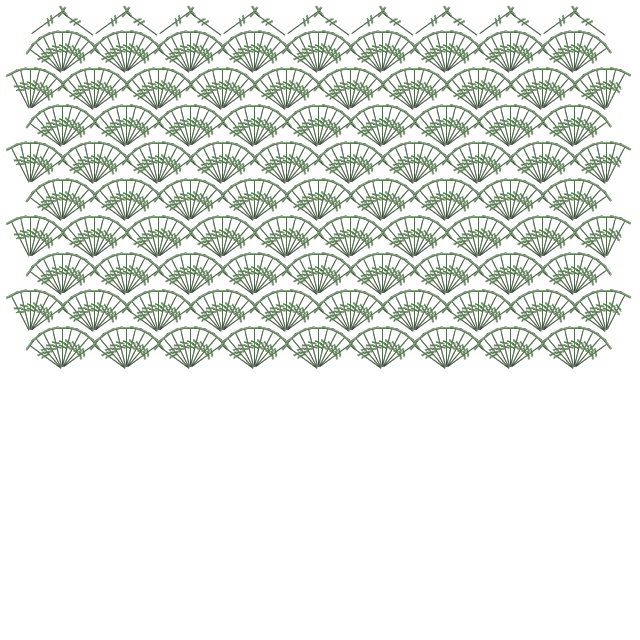fan: (30, 35, 69, 77), (57, 35, 96, 77), (94, 35, 133, 77), (121, 35, 160, 77), (158, 35, 197, 77), (185, 35, 224, 77), (222, 35, 261, 77), (249, 35, 288, 77), (286, 35, 325, 77), (313, 35, 352, 77), (350, 35, 389, 77), (377, 35, 416, 77), (414, 35, 453, 77), (441, 35, 480, 77), (478, 35, 517, 77), (505, 35, 544, 77), (542, 35, 581, 77), (569, 35, 608, 77), (25, 72, 64, 114), (62, 72, 101, 114), (89, 72, 128, 114), (126, 72, 165, 114), (153, 72, 192, 114), (190, 72, 229, 114), (217, 72, 256, 114), (254, 72, 293, 114), (281, 72, 320, 114), (318, 72, 357, 114), (345, 72, 384, 114), (382, 72, 421, 114), (409, 72, 448, 114), (446, 72, 485, 114), (473, 72, 512, 114), (510, 72, 549, 114), (537, 72, 576, 114), (574, 72, 613, 114), (30, 109, 69, 151), (57, 109, 96, 151), (94, 109, 133, 151), (121, 109, 160, 151), (158, 109, 197, 151), (185, 109, 224, 151), (222, 109, 261, 151), (249, 109, 288, 151), (286, 109, 325, 151), (313, 109, 352, 151), (350, 109, 389, 151), (377, 109, 416, 151), (414, 109, 453, 151), (441, 109, 480, 151), (478, 109, 517, 151), (505, 109, 544, 151), (542, 109, 581, 151), (569, 109, 608, 151), (25, 146, 64, 188), (62, 146, 101, 188), (89, 146, 128, 188), (126, 146, 165, 188), (153, 146, 192, 188), (190, 146, 229, 188), (217, 146, 256, 188), (254, 146, 293, 188), (281, 146, 320, 188), (318, 146, 357, 188), (345, 146, 384, 188), (382, 146, 421, 188), (409, 146, 448, 188), (446, 146, 485, 188), (473, 146, 512, 188), (510, 146, 549, 188), (537, 146, 576, 188), (574, 146, 613, 188), (30, 183, 69, 225), (57, 183, 96, 225), (94, 183, 133, 225), (121, 183, 160, 225), (158, 183, 197, 225), (185, 183, 224, 225), (222, 183, 261, 225), (249, 183, 288, 225), (286, 183, 325, 225), (313, 183, 352, 225), (350, 183, 389, 225), (377, 183, 416, 225), (414, 183, 453, 225), (441, 183, 480, 225), (478, 183, 517, 225), (505, 183, 544, 225), (542, 183, 581, 225), (569, 183, 608, 225), (25, 220, 64, 262), (62, 220, 101, 262), (89, 220, 128, 262), (126, 220, 165, 262), (153, 220, 192, 262), (190, 220, 229, 262), (217, 220, 256, 262), (254, 220, 293, 262), (281, 220, 320, 262), (318, 220, 357, 262), (345, 220, 384, 262), (382, 220, 421, 262), (409, 220, 448, 262), (446, 220, 485, 262), (473, 220, 512, 262), (510, 220, 549, 262), (537, 220, 576, 262), (574, 220, 613, 262), (30, 257, 69, 299), (57, 257, 96, 299), (94, 257, 133, 299), (121, 257, 160, 299), (158, 257, 197, 299), (185, 257, 224, 299), (222, 257, 261, 299), (249, 257, 288, 299), (286, 257, 325, 299), (313, 257, 352, 299), (350, 257, 389, 299), (377, 257, 416, 299), (414, 257, 453, 299), (441, 257, 480, 299), (478, 257, 517, 299), (505, 257, 544, 299), (542, 257, 581, 299), (569, 257, 608, 299), (25, 294, 64, 336), (62, 294, 101, 336), (89, 294, 128, 336), (126, 294, 165, 336), (153, 294, 192, 336), (190, 294, 229, 336), (217, 294, 256, 336), (254, 294, 293, 336), (281, 294, 320, 336), (318, 294, 357, 336), (345, 294, 384, 336), (382, 294, 421, 336), (409, 294, 448, 336), (446, 294, 485, 336), (473, 294, 512, 336), (510, 294, 549, 336), (537, 294, 576, 336), (574, 294, 613, 336), (30, 331, 69, 373), (57, 331, 96, 373), (94, 331, 133, 373), (121, 331, 160, 373), (158, 331, 197, 373), (185, 331, 224, 373), (222, 331, 261, 373), (249, 331, 288, 373), (286, 331, 325, 373), (313, 331, 352, 373), (350, 331, 389, 373), (377, 331, 416, 373), (414, 331, 453, 373), (441, 331, 480, 373), (478, 331, 517, 373), (505, 331, 544, 373), (542, 331, 581, 373), (569, 331, 608, 373), (26, 4, 70, 41), (56, 4, 100, 41), (90, 4, 134, 41), (120, 4, 164, 41), (154, 4, 198, 41), (184, 4, 228, 41), (218, 4, 262, 41), (248, 4, 292, 41), (282, 4, 326, 41), (312, 4, 356, 41), (346, 4, 390, 41), (376, 4, 420, 41), (410, 4, 454, 41), (440, 4, 484, 41), (474, 4, 518, 41), (504, 4, 548, 41), (538, 4, 582, 41), (568, 4, 612, 41), (24, 41, 68, 78), (58, 41, 102, 78), (88, 41, 132, 78), (122, 41, 166, 78), (152, 41, 196, 78), (186, 41, 230, 78), (216, 41, 260, 78), (250, 41, 294, 78), (280, 41, 324, 78), (314, 41, 358, 78), (344, 41, 388, 78), (378, 41, 422, 78), (408, 41, 452, 78), (442, 41, 486, 78), (472, 41, 516, 78), (506, 41, 550, 78), (536, 41, 580, 78), (570, 41, 614, 78), (26, 78, 70, 115), (56, 78, 100, 115), (90, 78, 134, 115), (120, 78, 164, 115), (154, 78, 198, 115), (184, 78, 228, 115), (218, 78, 262, 115), (248, 78, 292, 115), (282, 78, 326, 115), (312, 78, 356, 115), (346, 78, 390, 115), (376, 78, 420, 115), (410, 78, 454, 115), (440, 78, 484, 115), (474, 78, 518, 115), (504, 78, 548, 115), (538, 78, 582, 115), (568, 78, 612, 115), (24, 115, 68, 152), (58, 115, 102, 152), (88, 115, 132, 152), (122, 115, 166, 152), (152, 115, 196, 152), (186, 115, 230, 152), (216, 115, 260, 152), (250, 115, 294, 152), (280, 115, 324, 152), (314, 115, 358, 152), (344, 115, 388, 152), (378, 115, 422, 152), (408, 115, 452, 152), (442, 115, 486, 152), (472, 115, 516, 152), (506, 115, 550, 152), (536, 115, 580, 152), (570, 115, 614, 152), (26, 152, 70, 189), (56, 152, 100, 189), (90, 152, 134, 189), (120, 152, 164, 189), (154, 152, 198, 189), (184, 152, 228, 189), (218, 152, 262, 189), (248, 152, 292, 189), (282, 152, 326, 189), (312, 152, 356, 189), (346, 152, 390, 189), (376, 152, 420, 189), (410, 152, 454, 189), (440, 152, 484, 189), (474, 152, 518, 189), (504, 152, 548, 189), (538, 152, 582, 189), (568, 152, 612, 189), (24, 189, 68, 226), (58, 189, 102, 226), (88, 189, 132, 226), (122, 189, 166, 226), (152, 189, 196, 226), (186, 189, 230, 226), (216, 189, 260, 226), (250, 189, 294, 226), (280, 189, 324, 226), (314, 189, 358, 226), (344, 189, 388, 226), (378, 189, 422, 226), (408, 189, 452, 226), (442, 189, 486, 226), (472, 189, 516, 226), (506, 189, 550, 226), (536, 189, 580, 226), (570, 189, 614, 226), (26, 226, 70, 263), (56, 226, 100, 263), (90, 226, 134, 263), (120, 226, 164, 263), (154, 226, 198, 263), (184, 226, 228, 263), (218, 226, 262, 263), (248, 226, 292, 263), (282, 226, 326, 263), (312, 226, 356, 263), (346, 226, 390, 263), (376, 226, 420, 263), (410, 226, 454, 263), (440, 226, 484, 263), (474, 226, 518, 263), (504, 226, 548, 263), (538, 226, 582, 263), (568, 226, 612, 263), (24, 263, 68, 300), (58, 263, 102, 300), (88, 263, 132, 300), (122, 263, 166, 300), (152, 263, 196, 300), (186, 263, 230, 300), (216, 263, 260, 300), (250, 263, 294, 300), (280, 263, 324, 300), (314, 263, 358, 300), (344, 263, 388, 300), (378, 263, 422, 300), (408, 263, 452, 300), (442, 263, 486, 300), (472, 263, 516, 300), (506, 263, 550, 300), (536, 263, 580, 300), (570, 263, 614, 300), (26, 300, 70, 337), (56, 300, 100, 337), (90, 300, 134, 337), (120, 300, 164, 337), (154, 300, 198, 337), (184, 300, 228, 337), (218, 300, 262, 337), (248, 300, 292, 337), (282, 300, 326, 337), (312, 300, 356, 337), (346, 300, 390, 337), (376, 300, 420, 337), (410, 300, 454, 337), (440, 300, 484, 337), (474, 300, 518, 337), (504, 300, 548, 337), (538, 300, 582, 337), (568, 300, 612, 337), (24, 337, 68, 374), (58, 337, 102, 374), (88, 337, 132, 374), (122, 337, 166, 374), (152, 337, 196, 374), (186, 337, 230, 374), (216, 337, 260, 374), (250, 337, 294, 374), (280, 337, 324, 374), (314, 337, 358, 374), (344, 337, 388, 374), (378, 337, 422, 374), (408, 337, 452, 374), (442, 337, 486, 374), (472, 337, 516, 374), (506, 337, 550, 374), (536, 337, 580, 374), (570, 337, 614, 374), (37, 31, 70, 76), (56, 31, 89, 76), (101, 31, 134, 76), (120, 31, 153, 76), (165, 31, 198, 76), (184, 31, 217, 76), (229, 31, 262, 76), (248, 31, 281, 76), (293, 31, 326, 76), (312, 31, 345, 76), (357, 31, 390, 76), (376, 31, 409, 76), (421, 31, 454, 76), (440, 31, 473, 76), (485, 31, 518, 76), (504, 31, 537, 76), (549, 31, 582, 76), (568, 31, 601, 76), (5, 68, 38, 113), (24, 68, 57, 113), (69, 68, 102, 113), (88, 68, 121, 113), (133, 68, 166, 113), (152, 68, 185, 113), (197, 68, 230, 113), (216, 68, 249, 113), (261, 68, 294, 113), (280, 68, 313, 113), (325, 68, 358, 113), (344, 68, 377, 113), (389, 68, 422, 113), (408, 68, 441, 113), (453, 68, 486, 113), (472, 68, 505, 113), (517, 68, 550, 113), (536, 68, 569, 113), (581, 68, 614, 113), (600, 68, 633, 113), (37, 105, 70, 150), (56, 105, 89, 150), (101, 105, 134, 150), (120, 105, 153, 150), (165, 105, 198, 150), (184, 105, 217, 150), (229, 105, 262, 150), (248, 105, 281, 150), (293, 105, 326, 150), (312, 105, 345, 150), (357, 105, 390, 150), (376, 105, 409, 150), (421, 105, 454, 150), (440, 105, 473, 150), (485, 105, 518, 150), (504, 105, 537, 150), (549, 105, 582, 150), (568, 105, 601, 150), (5, 142, 38, 187), (24, 142, 57, 187), (69, 142, 102, 187), (88, 142, 121, 187), (133, 142, 166, 187), (152, 142, 185, 187), (197, 142, 230, 187), (216, 142, 249, 187), (261, 142, 294, 187), (280, 142, 313, 187), (325, 142, 358, 187), (344, 142, 377, 187), (389, 142, 422, 187), (408, 142, 441, 187), (453, 142, 486, 187), (472, 142, 505, 187), (517, 142, 550, 187), (536, 142, 569, 187), (581, 142, 614, 187), (600, 142, 633, 187), (37, 179, 70, 224), (56, 179, 89, 224), (101, 179, 134, 224), (120, 179, 153, 224), (165, 179, 198, 224), (184, 179, 217, 224), (229, 179, 262, 224), (248, 179, 281, 224), (293, 179, 326, 224), (312, 179, 345, 224), (357, 179, 390, 224), (376, 179, 409, 224), (421, 179, 454, 224), (440, 179, 473, 224), (485, 179, 518, 224), (504, 179, 537, 224), (549, 179, 582, 224), (568, 179, 601, 224), (5, 216, 38, 261), (24, 216, 57, 261), (69, 216, 102, 261), (88, 216, 121, 261), (133, 216, 166, 261), (152, 216, 185, 261), (197, 216, 230, 261), (216, 216, 249, 261), (261, 216, 294, 261), (280, 216, 313, 261), (325, 216, 358, 261), (344, 216, 377, 261), (389, 216, 422, 261), (408, 216, 441, 261), (453, 216, 486, 261), (472, 216, 505, 261), (517, 216, 550, 261), (536, 216, 569, 261), (581, 216, 614, 261), (600, 216, 633, 261), (37, 253, 70, 298), (56, 253, 89, 298), (101, 253, 134, 298), (120, 253, 153, 298), (165, 253, 198, 298), (184, 253, 217, 298), (229, 253, 262, 298), (248, 253, 281, 298), (293, 253, 326, 298), (312, 253, 345, 298), (357, 253, 390, 298), (376, 253, 409, 298), (421, 253, 454, 298), (440, 253, 473, 298), (485, 253, 518, 298), (504, 253, 537, 298), (549, 253, 582, 298), (568, 253, 601, 298), (5, 290, 38, 335), (24, 290, 57, 335), (69, 290, 102, 335), (88, 290, 121, 335), (133, 290, 166, 335), (152, 290, 185, 335), (197, 290, 230, 335), (216, 290, 249, 335), (261, 290, 294, 335), (280, 290, 313, 335), (325, 290, 358, 335), (344, 290, 377, 335), (389, 290, 422, 335), (408, 290, 441, 335), (453, 290, 486, 335), (472, 290, 505, 335), (517, 290, 550, 335), (536, 290, 569, 335), (581, 290, 614, 335), (600, 290, 633, 335), (37, 327, 70, 372), (56, 327, 89, 372), (101, 327, 134, 372), (120, 327, 153, 372), (165, 327, 198, 372), (184, 327, 217, 372), (229, 327, 262, 372), (248, 327, 281, 372), (293, 327, 326, 372), (312, 327, 345, 372), (357, 327, 390, 372), (376, 327, 409, 372), (421, 327, 454, 372), (440, 327, 473, 372), (485, 327, 518, 372), (504, 327, 537, 372), (549, 327, 582, 372), (568, 327, 601, 372), (45, 29, 71, 74), (55, 29, 81, 74), (109, 29, 135, 74), (119, 29, 145, 74), (173, 29, 199, 74), (183, 29, 209, 74), (237, 29, 263, 74), (247, 29, 273, 74), (301, 29, 327, 74), (311, 29, 337, 74), (365, 29, 391, 74), (375, 29, 401, 74), (429, 29, 455, 74), (439, 29, 465, 74), (493, 29, 519, 74), (503, 29, 529, 74), (557, 29, 583, 74), (567, 29, 593, 74), (13, 66, 39, 111), (23, 66, 49, 111), (77, 66, 103, 111), (87, 66, 113, 111), (141, 66, 167, 111), (151, 66, 177, 111), (205, 66, 231, 111), (215, 66, 241, 111), (269, 66, 295, 111), (279, 66, 305, 111), (333, 66, 359, 111), (343, 66, 369, 111), (397, 66, 423, 111), (407, 66, 433, 111), (461, 66, 487, 111), (471, 66, 497, 111), (525, 66, 551, 111), (535, 66, 561, 111), (589, 66, 615, 111), (599, 66, 625, 111), (45, 103, 71, 148), (55, 103, 81, 148), (109, 103, 135, 148), (119, 103, 145, 148), (173, 103, 199, 148), (183, 103, 209, 148), (237, 103, 263, 148), (247, 103, 273, 148), (301, 103, 327, 148), (311, 103, 337, 148), (365, 103, 391, 148), (375, 103, 401, 148), (429, 103, 455, 148), (439, 103, 465, 148), (493, 103, 519, 148), (503, 103, 529, 148), (557, 103, 583, 148), (567, 103, 593, 148), (13, 140, 39, 185), (23, 140, 49, 185), (77, 140, 103, 185), (87, 140, 113, 185), (141, 140, 167, 185), (151, 140, 177, 185), (205, 140, 231, 185), (215, 140, 241, 185), (269, 140, 295, 185), (279, 140, 305, 185), (333, 140, 359, 185), (343, 140, 369, 185), (397, 140, 423, 185), (407, 140, 433, 185), (461, 140, 487, 185), (471, 140, 497, 185), (525, 140, 551, 185), (535, 140, 561, 185), (589, 140, 615, 185), (599, 140, 625, 185), (45, 177, 71, 222), (55, 177, 81, 222), (109, 177, 135, 222), (119, 177, 145, 222), (173, 177, 199, 222), (183, 177, 209, 222), (237, 177, 263, 222), (247, 177, 273, 222), (301, 177, 327, 222), (311, 177, 337, 222), (365, 177, 391, 222), (375, 177, 401, 222), (429, 177, 455, 222), (439, 177, 465, 222), (493, 177, 519, 222), (503, 177, 529, 222), (557, 177, 583, 222), (567, 177, 593, 222), (13, 214, 39, 259), (23, 214, 49, 259), (77, 214, 103, 259), (87, 214, 113, 259), (141, 214, 167, 259), (151, 214, 177, 259), (205, 214, 231, 259), (215, 214, 241, 259), (269, 214, 295, 259), (279, 214, 305, 259), (333, 214, 359, 259), (343, 214, 369, 259), (397, 214, 423, 259), (407, 214, 433, 259), (461, 214, 487, 259), (471, 214, 497, 259), (525, 214, 551, 259), (535, 214, 561, 259), (589, 214, 615, 259), (599, 214, 625, 259), (45, 251, 71, 296), (55, 251, 81, 296), (109, 251, 135, 296), (119, 251, 145, 296), (173, 251, 199, 296), (183, 251, 209, 296), (237, 251, 263, 296), (247, 251, 273, 296), (301, 251, 327, 296), (311, 251, 337, 296), (365, 251, 391, 296), (375, 251, 401, 296), (429, 251, 455, 296), (439, 251, 465, 296), (493, 251, 519, 296), (503, 251, 529, 296), (557, 251, 583, 296), (567, 251, 593, 296), (13, 288, 39, 333), (23, 288, 49, 333), (77, 288, 103, 333), (87, 288, 113, 333), (141, 288, 167, 333), (151, 288, 177, 333), (205, 288, 231, 333), (215, 288, 241, 333), (269, 288, 295, 333), (279, 288, 305, 333), (333, 288, 359, 333), (343, 288, 369, 333), (397, 288, 423, 333), (407, 288, 433, 333), (461, 288, 487, 333), (471, 288, 497, 333), (525, 288, 551, 333), (535, 288, 561, 333), (589, 288, 615, 333), (599, 288, 625, 333), (45, 325, 71, 370), (55, 325, 81, 370), (109, 325, 135, 370), (119, 325, 145, 370), (173, 325, 199, 370), (183, 325, 209, 370), (237, 325, 263, 370), (247, 325, 273, 370), (301, 325, 327, 370), (311, 325, 337, 370), (365, 325, 391, 370), (375, 325, 401, 370), (429, 325, 455, 370), (439, 325, 465, 370), (493, 325, 519, 370), (503, 325, 529, 370), (557, 325, 583, 370), (567, 325, 593, 370), (55, 30, 71, 72), (119, 30, 135, 72), (183, 30, 199, 72), (247, 30, 263, 72), (311, 30, 327, 72), (375, 30, 391, 72), (439, 30, 455, 72), (503, 30, 519, 72), (567, 30, 583, 72), (23, 67, 39, 109), (87, 67, 103, 109), (151, 67, 167, 109), (215, 67, 231, 109), (279, 67, 295, 109), (343, 67, 359, 109), (407, 67, 423, 109), (471, 67, 487, 109), (535, 67, 551, 109), (599, 67, 615, 109), (55, 104, 71, 146), (119, 104, 135, 146), (183, 104, 199, 146), (247, 104, 263, 146), (311, 104, 327, 146), (375, 104, 391, 146), (439, 104, 455, 146), (503, 104, 519, 146), (567, 104, 583, 146), (23, 141, 39, 183), (87, 141, 103, 183), (151, 141, 167, 183), (215, 141, 231, 183), (279, 141, 295, 183), (343, 141, 359, 183), (407, 141, 423, 183), (471, 141, 487, 183), (535, 141, 551, 183), (599, 141, 615, 183), (55, 178, 71, 220), (119, 178, 135, 220), (183, 178, 199, 220), (247, 178, 263, 220), (311, 178, 327, 220), (375, 178, 391, 220), (439, 178, 455, 220), (503, 178, 519, 220), (567, 178, 583, 220), (23, 215, 39, 257), (87, 215, 103, 257), (151, 215, 167, 257), (215, 215, 231, 257), (279, 215, 295, 257), (343, 215, 359, 257), (407, 215, 423, 257), (471, 215, 487, 257), (535, 215, 551, 257), (599, 215, 615, 257), (55, 252, 71, 294), (119, 252, 135, 294), (183, 252, 199, 294), (247, 252, 263, 294), (311, 252, 327, 294), (375, 252, 391, 294), (439, 252, 455, 294), (503, 252, 519, 294), (567, 252, 583, 294), (23, 289, 39, 331), (87, 289, 103, 331), (151, 289, 167, 331), (215, 289, 231, 331), (279, 289, 295, 331), (343, 289, 359, 331), (407, 289, 423, 331), (471, 289, 487, 331), (535, 289, 551, 331), (599, 289, 615, 331), (55, 326, 71, 368), (119, 326, 135, 368), (183, 326, 199, 368), (247, 326, 263, 368), (311, 326, 327, 368), (375, 326, 391, 368), (439, 326, 455, 368), (503, 326, 519, 368), (567, 326, 583, 368)
